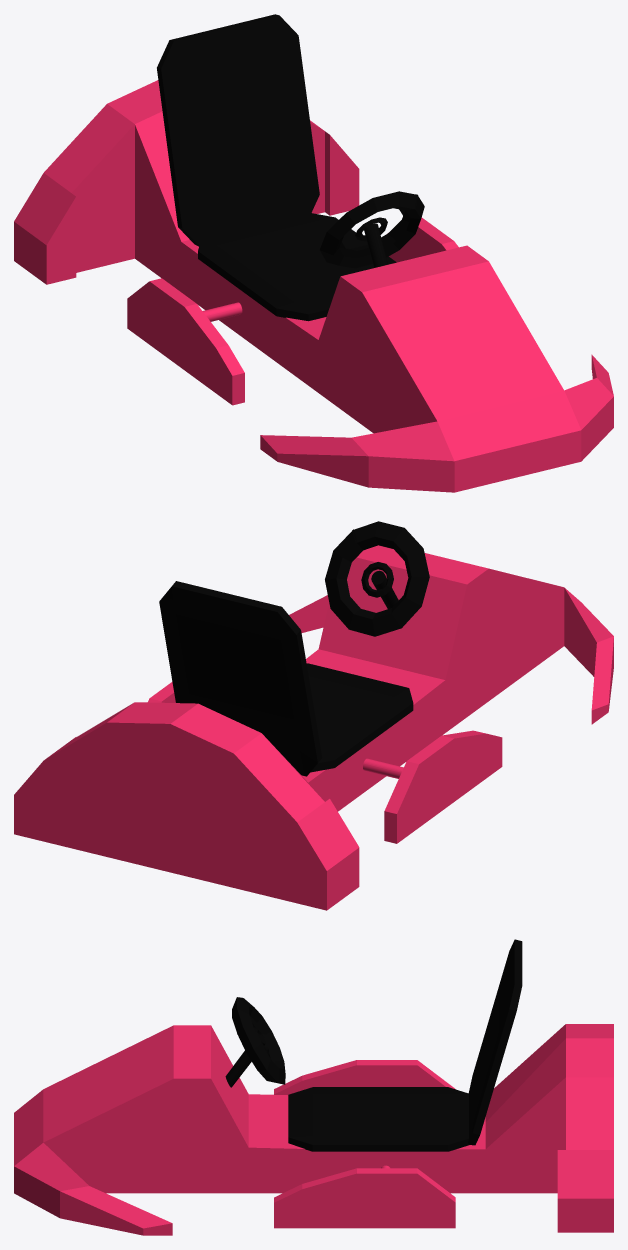
File: Teste.fbx
3 views of the same model, one above another, from view 1: azimuth 30°, elevation 25°; view 2: azimuth 150°, elevation 25°; view 3: azimuth 270°, elevation 25° (orthographic). The views are drawn at different scales.
Visible parts, largest first — view 1: Cadeira; view 2: Cadeira; view 3: Cadeira.
Boxes of the visible parts, x1,y1,x2,y2 form: Cadeira: (14, 14, 613, 492); Cadeira: (14, 521, 613, 910); Cadeira: (14, 939, 613, 1235).
Bounding box in the file's own units: 183 × 128 × 333.
